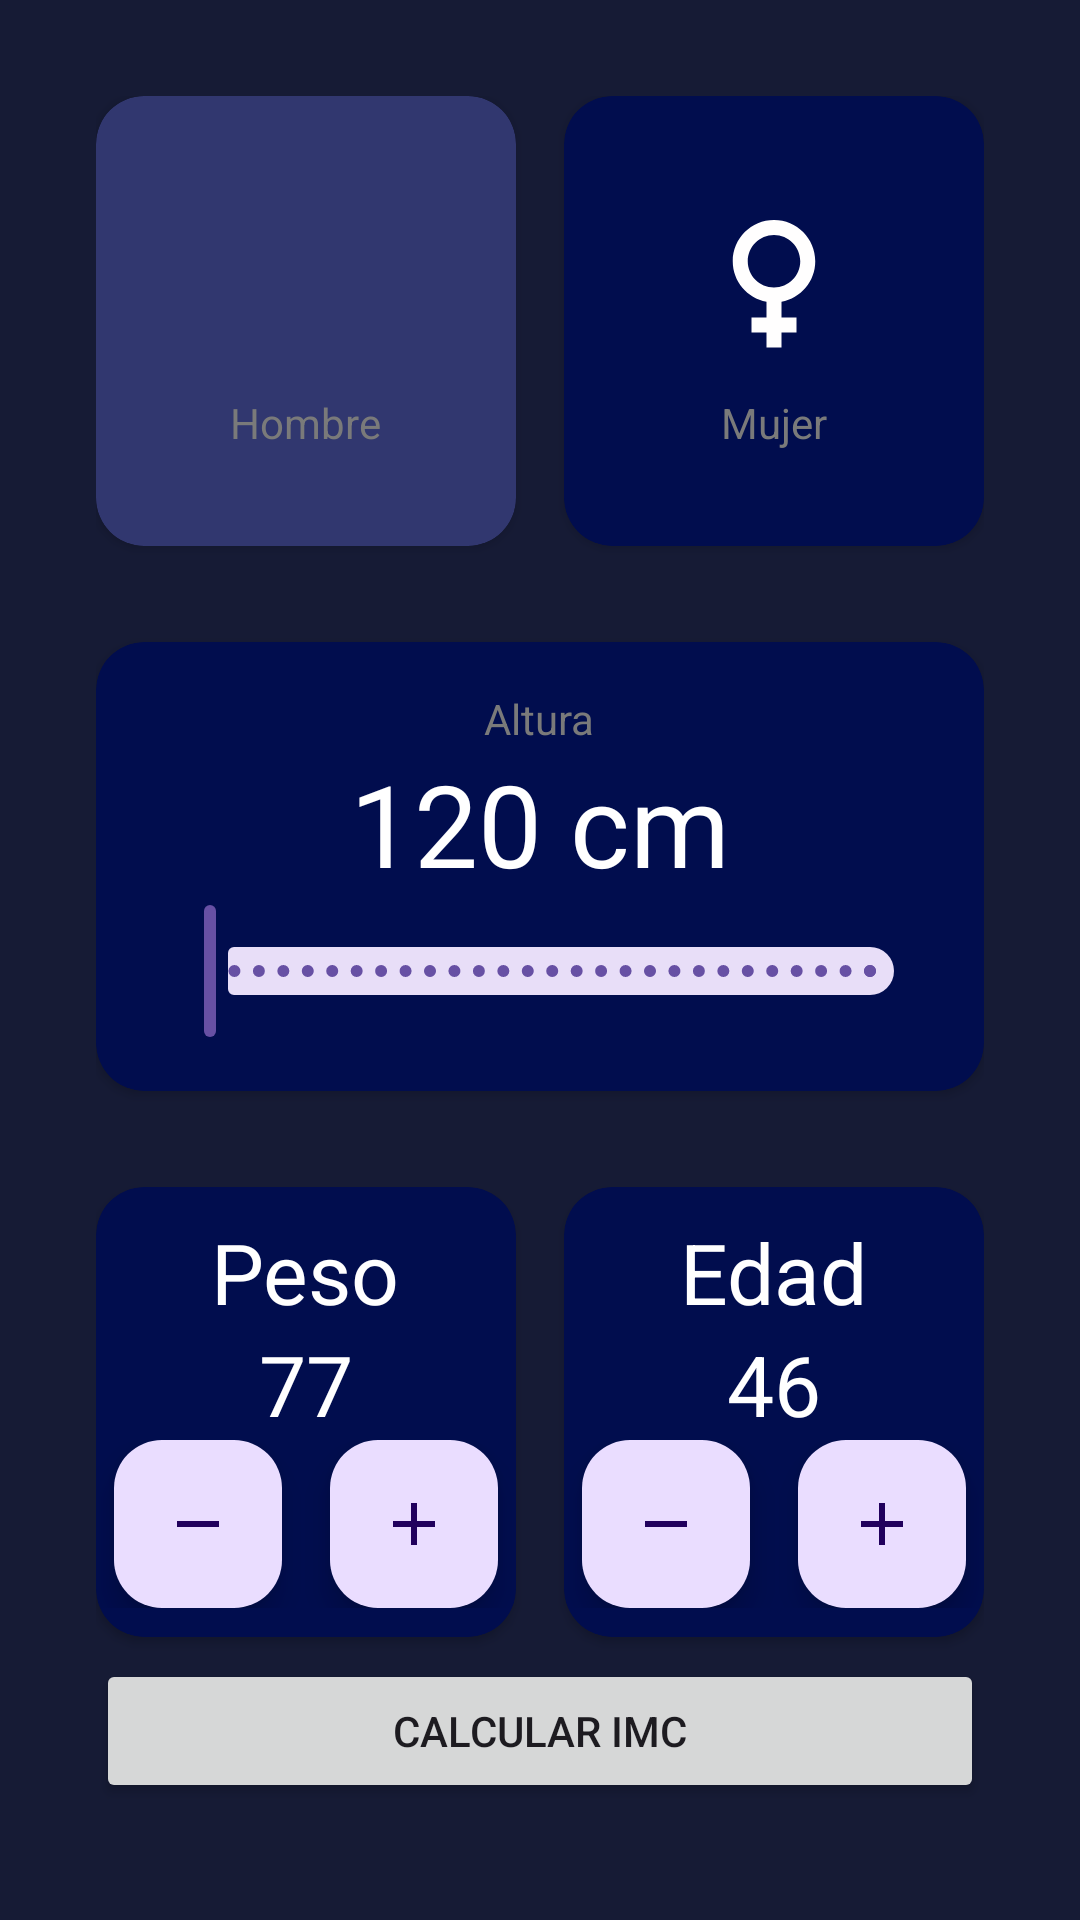

Named icons in this screenshot (1080 x 1920) and their centers, (x,y):
add: (414,1524), (882,1524)
female: (774,284)
remove: (198,1524), (666,1524)
